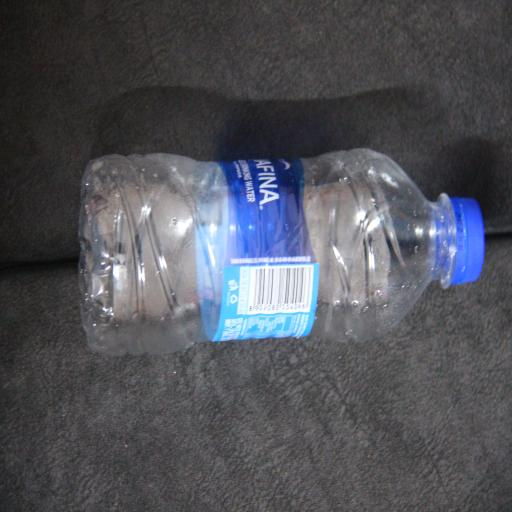Aquafina: (99, 42, 235, 512)
